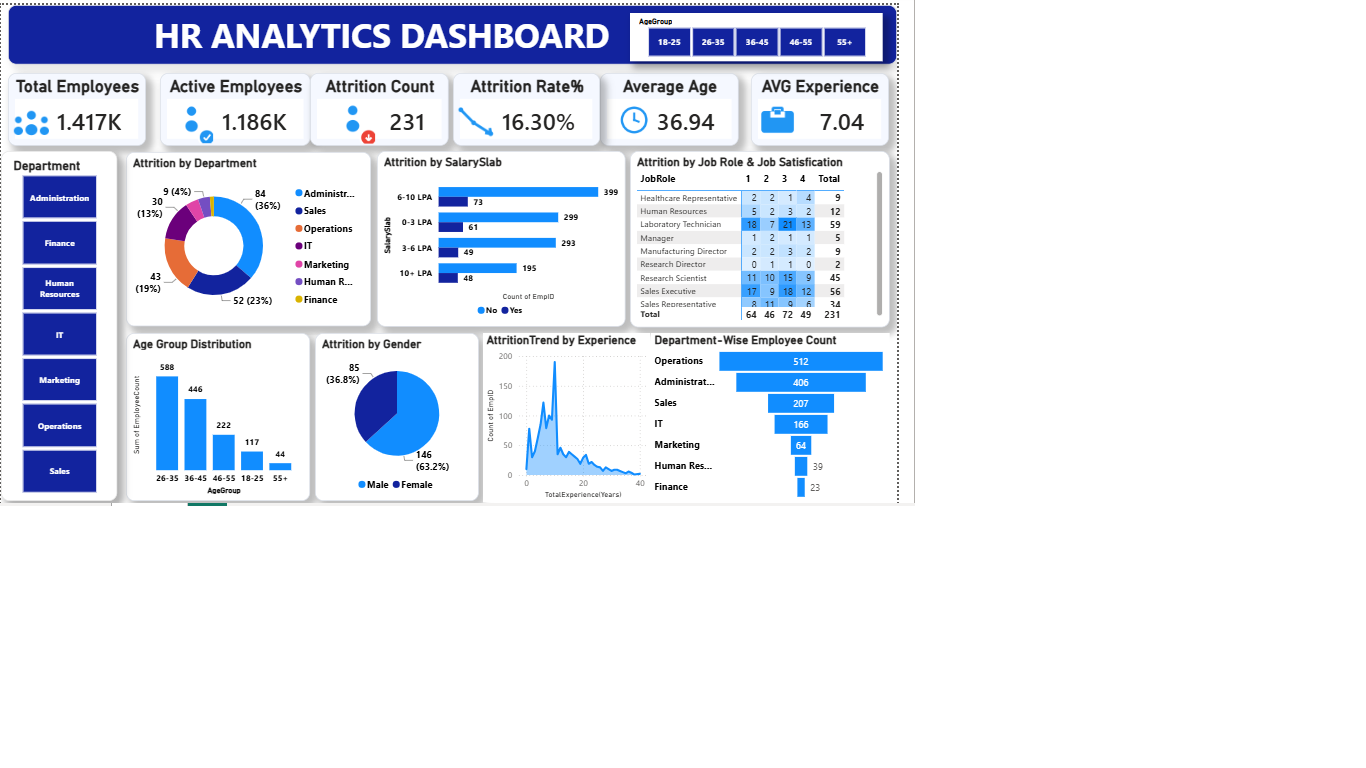

The page's visual inventory and layout, read from the dashboard file:
{"tool":"powerbi","page":{"name":"Page 1","canvas":[1280,720],"ordinal":0},"visuals":[{"type":"textbox","box":[10,0,1270,85],"z":0},{"type":"cardVisual","title":"Total Employees","fields":{"Data":["CountNonNull(HR_Analytics-4.EmpID)"]},"box":[10.1,97.4,196.5,104.1],"z":1000},{"type":"cardVisual","title":"Average Age","fields":{"Data":["Avg(HR_Analytics-4.Age)"]},"box":[855,97.4,198.2,104.1],"z":2000},{"type":"cardVisual","title":"AVG Experience","fields":{"Data":["Avg(HR_Analytics-4.YearsatCompany)"]},"box":[1071.7,97.4,196.5,104.1],"z":3000},{"type":"cardVisual","title":"Active Employees","fields":{"Data":["CountNonNull(HR_Analytics-4.EmployeeCount)"]},"box":[226.8,97.4,215,104.1],"z":4000},{"type":"cardVisual","title":"Attrition Count","fields":{"Data":["Sum(HR_Analytics-4.AttritionCount)"]},"box":[441.8,97.4,198.2,104.1],"z":5000},{"type":"cardVisual","title":"Attrition Rate%","fields":{"Data":["HR_Analytics-4.Attrition_Rate %"]},"box":[645,97.4,210,104.1],"z":6000},{"type":"image","box":[10.9,141.4,63.5,59.8],"z":7000},{"type":"image","box":[239.3,141.4,70.7,56.2],"z":8000},{"type":"image","box":[471.4,139.6,68.9,58],"z":9000},{"type":"image","box":[645.4,136,65.3,61.6],"z":10000},{"type":"image","box":[879.3,125.1,49,76.1],"z":11000},{"type":"image","box":[1071.5,132.4,76.1,61.6],"z":12000},{"type":"donutChart","title":"Attrition by Department","fields":{"Category":["HR_Analytics-4.Department"],"Y":["Sum(HR_Analytics-4.AttritionCount)"]},"box":[179,210,350,249],"z":13000},{"type":"clusteredBarChart","title":"Attrition by SalarySlab","fields":{"Category":["HR_Analytics-4.SalarySlab"],"Y":["CountNonNull(HR_Analytics-4.EmpID)"],"Series":["HR_Analytics-4.Attrition"]},"box":[537,209,355,251],"z":14000},{"type":"pivotTable","title":"Attrition by Job Role & Job Satisfication","fields":{"Rows":["HR_Analytics-4.JobRole"],"Values":["Sum(HR_Analytics-4.AttritionCount)"],"Columns":["HR_Analytics-4.JobSatisfaction"]},"box":[898,208.3,371,251.7],"z":15000},{"type":"columnChart","title":"Age Group Distribution","fields":{"Category":["HR_Analytics-4.AgeGroup"],"Y":["Sum(HR_Analytics-4.EmployeeCount)"]},"box":[178.3,468.3,263.3,240],"z":16000},{"type":"pieChart","title":"Attrition by Gender","fields":{"Category":["HR_Analytics-4.Gender"],"Y":["Sum(HR_Analytics-4.AttritionCount)"]},"box":[448,469,234,240],"z":17000},{"type":"areaChart","title":"AttritionTrend by Experience","fields":{"Category":["HR_Analytics-4.TotalExperience(Years)"],"Y":["CountNonNull(HR_Analytics-4.EmpID)"]},"box":[689,469,239,242],"z":18000},{"type":"funnel","title":"Department-Wise Employee Count","fields":{"Category":["HR_Analytics-4.Department"],"Y":["CountNonNull(HR_Analytics-4.EmpID)"]},"box":[928,469,341,242],"z":19000},{"type":"slicer","fields":{"Values":["HR_Analytics-4.Department"]},"box":[0,208.6,165.7,500],"z":20000},{"type":"slicer","fields":{"Values":["HR_Analytics-4.AgeGroup"]},"box":[898,12,361.4,68.6],"z":21000}]}

Visuals, with their boxes in screenshot pixels (x1, y1, x2, y2), scaled from the page's 1280x720 canvas onto the 1366x768 screenshot:
textbox: pyautogui.locateOnScreen(11, 0, 1365, 91)
"Total Employees" cardVisual: pyautogui.locateOnScreen(11, 104, 220, 215)
"Average Age" cardVisual: pyautogui.locateOnScreen(912, 104, 1124, 215)
"AVG Experience" cardVisual: pyautogui.locateOnScreen(1144, 104, 1353, 215)
"Active Employees" cardVisual: pyautogui.locateOnScreen(242, 104, 471, 215)
"Attrition Count" cardVisual: pyautogui.locateOnScreen(471, 104, 683, 215)
"Attrition Rate%" cardVisual: pyautogui.locateOnScreen(688, 104, 912, 215)
image: pyautogui.locateOnScreen(12, 151, 79, 215)
image: pyautogui.locateOnScreen(255, 151, 331, 211)
image: pyautogui.locateOnScreen(503, 149, 577, 211)
image: pyautogui.locateOnScreen(689, 145, 758, 211)
image: pyautogui.locateOnScreen(938, 133, 991, 215)
image: pyautogui.locateOnScreen(1143, 141, 1225, 207)
"Attrition by Department" donutChart: pyautogui.locateOnScreen(191, 224, 565, 490)
"Attrition by SalarySlab" clusteredBarChart: pyautogui.locateOnScreen(573, 223, 952, 491)
"Attrition by Job Role & Job Satisfication" pivotTable: pyautogui.locateOnScreen(958, 222, 1354, 491)
"Age Group Distribution" columnChart: pyautogui.locateOnScreen(190, 500, 471, 756)
"Attrition by Gender" pieChart: pyautogui.locateOnScreen(478, 500, 728, 756)
"AttritionTrend by Experience" areaChart: pyautogui.locateOnScreen(735, 500, 990, 758)
"Department-Wise Employee Count" funnel: pyautogui.locateOnScreen(990, 500, 1354, 758)
slicer - HR_Analytics-4.Department: pyautogui.locateOnScreen(0, 223, 177, 756)
slicer - HR_Analytics-4.AgeGroup: pyautogui.locateOnScreen(958, 13, 1344, 86)
